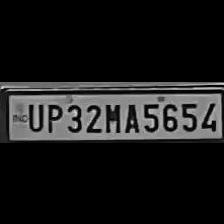2: (82, 100, 102, 132)
3: (62, 100, 82, 132)
4: (198, 97, 218, 130)
5: (140, 98, 160, 132), (178, 98, 198, 130)
6: (160, 99, 178, 131)
A: (121, 100, 139, 132)
M: (102, 100, 122, 132)
P: (43, 100, 62, 132)
U: (24, 99, 43, 131)
